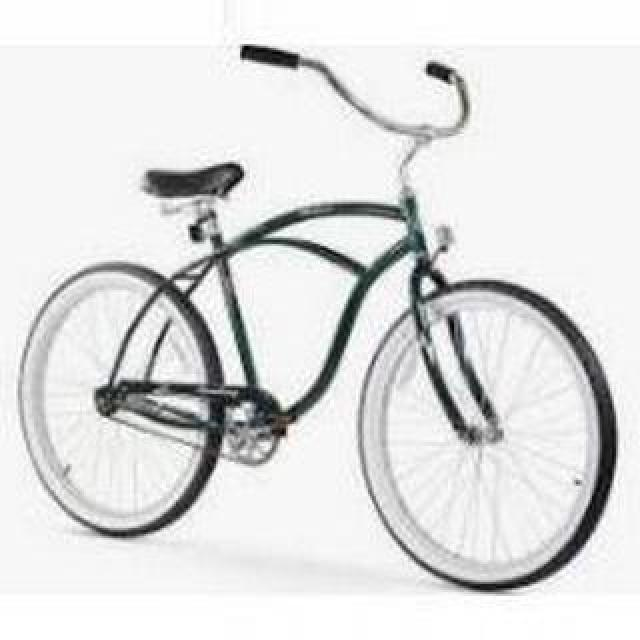Person: (15, 33, 619, 595)
